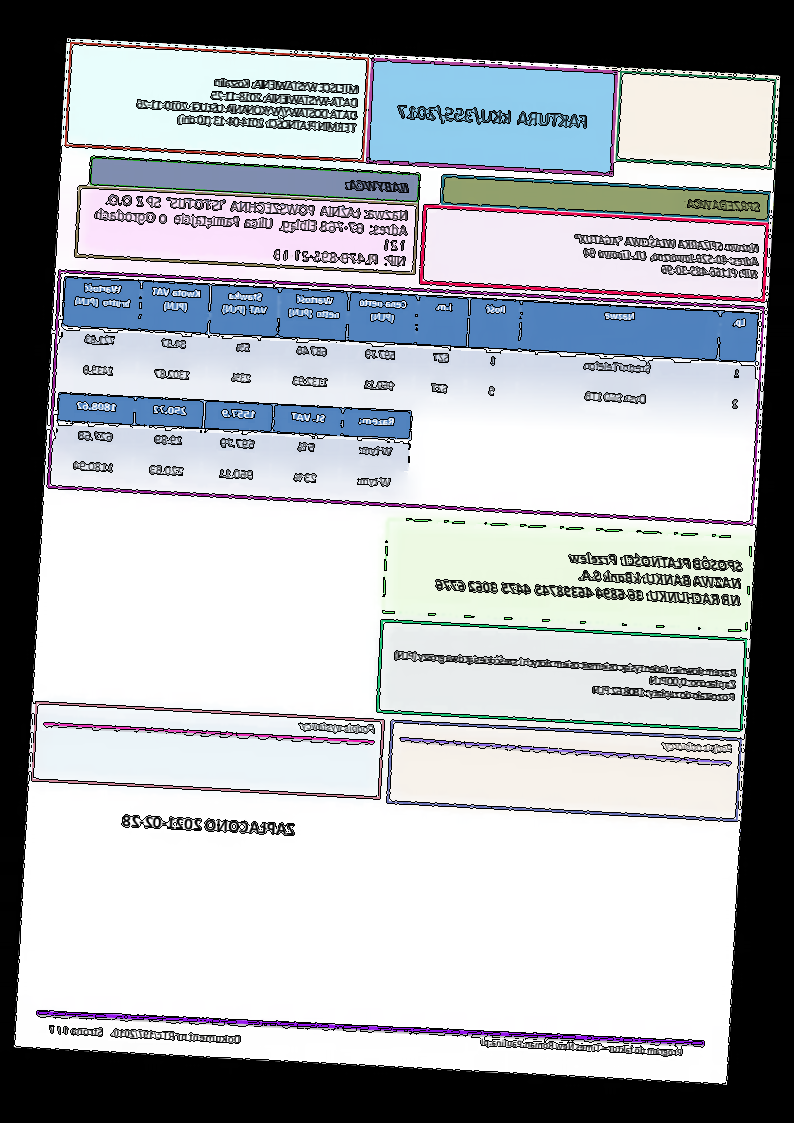Table: (58, 275, 761, 426), (51, 391, 413, 503)
TextBox: (92, 190, 412, 269), (434, 538, 746, 612), (389, 645, 739, 705), (135, 68, 361, 136), (572, 231, 762, 281), (396, 101, 590, 133), (478, 1035, 686, 1060), (44, 1021, 243, 1047), (120, 811, 297, 838), (682, 193, 764, 215), (296, 718, 377, 738), (661, 736, 736, 757), (342, 175, 412, 196)
